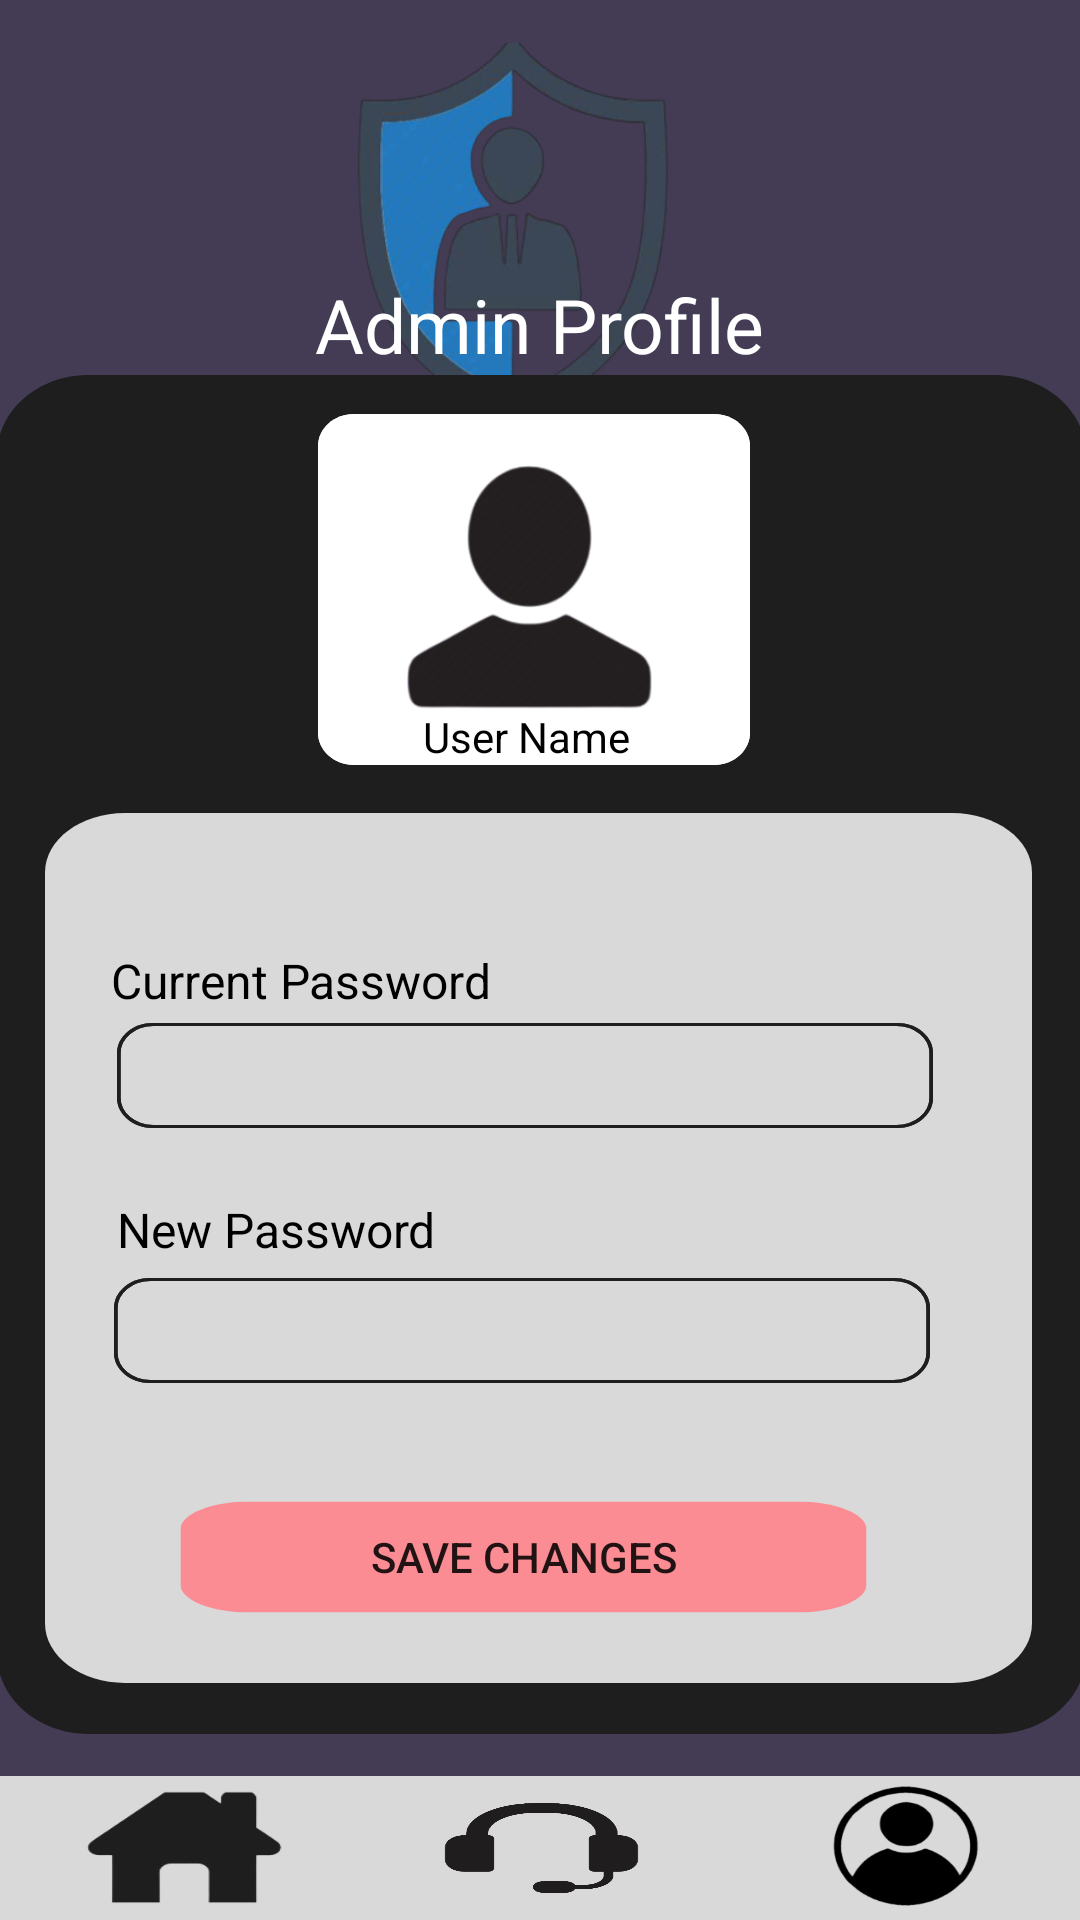

Screen size 1080x1920. Icon name, then its center in pixels as [x,y]:
navigationfeedback: [541,1848]
